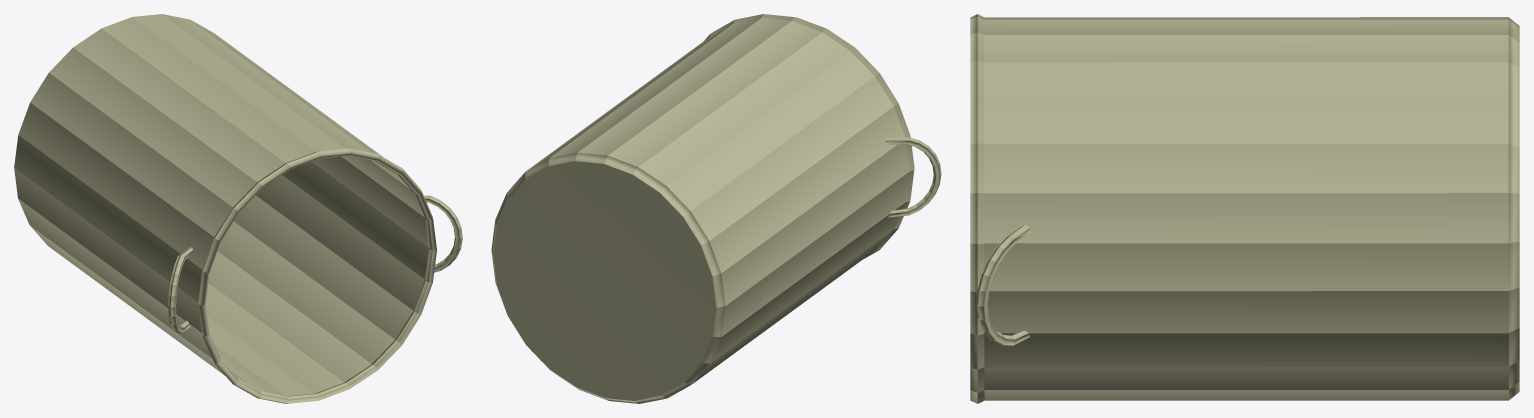
File: HampermeshLaundryHamper_1_0.obj
The picture shows the model from 3 angles, left to right: view 1: azimuth 30°, elevation 25°; view 2: azimuth 150°, elevation 25°; view 3: azimuth 270°, elevation 25°; orthographic projection. The views are drawn at different scales.
Visible parts, largest first — view 1: LaundryHamper_1; view 2: LaundryHamper_1; view 3: LaundryHamper_1.
Part boxes in pixels (left/top/right/bottom): LaundryHamper_1: left=14, top=14, right=462, bottom=403; LaundryHamper_1: left=491, top=14, right=941, bottom=403; LaundryHamper_1: left=970, top=14, right=1519, bottom=403.
Bounding box in the file's own units: 0.6456 × 0.5235 × 0.7349.
